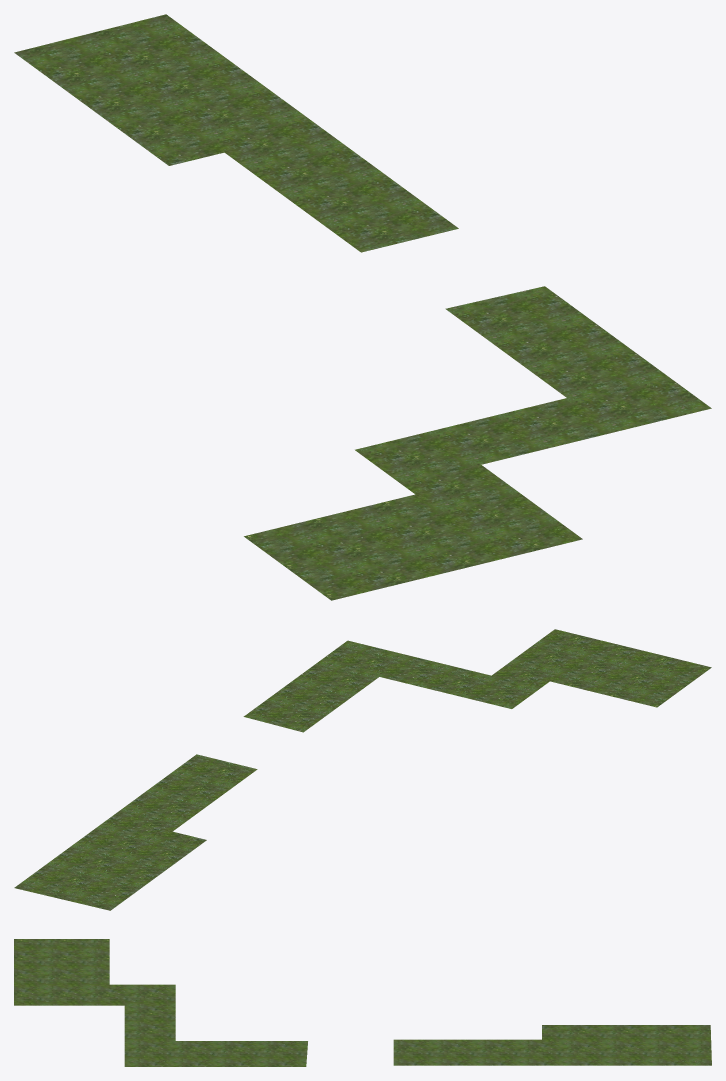
The model's file is fb_juxianzhuang_caodi01.FBX.
3 views of the same model, one above another, from view 1: azimuth 30°, elevation 25°; view 2: azimuth 150°, elevation 25°; view 3: azimuth 270°, elevation 25° (orthographic). The views are drawn at different scales.
Visible parts, largest first — view 1: fb_juxianzhuang_caodi01; view 2: fb_juxianzhuang_caodi01; view 3: fb_juxianzhuang_caodi01.
Part boxes in pixels (x1,y1,x2,y2): fb_juxianzhuang_caodi01: (14, 14, 711, 600); fb_juxianzhuang_caodi01: (14, 629, 711, 910); fb_juxianzhuang_caodi01: (14, 939, 711, 1066).
Size of the model in its own units: 1492 by 9.81e-13 by 3439.
